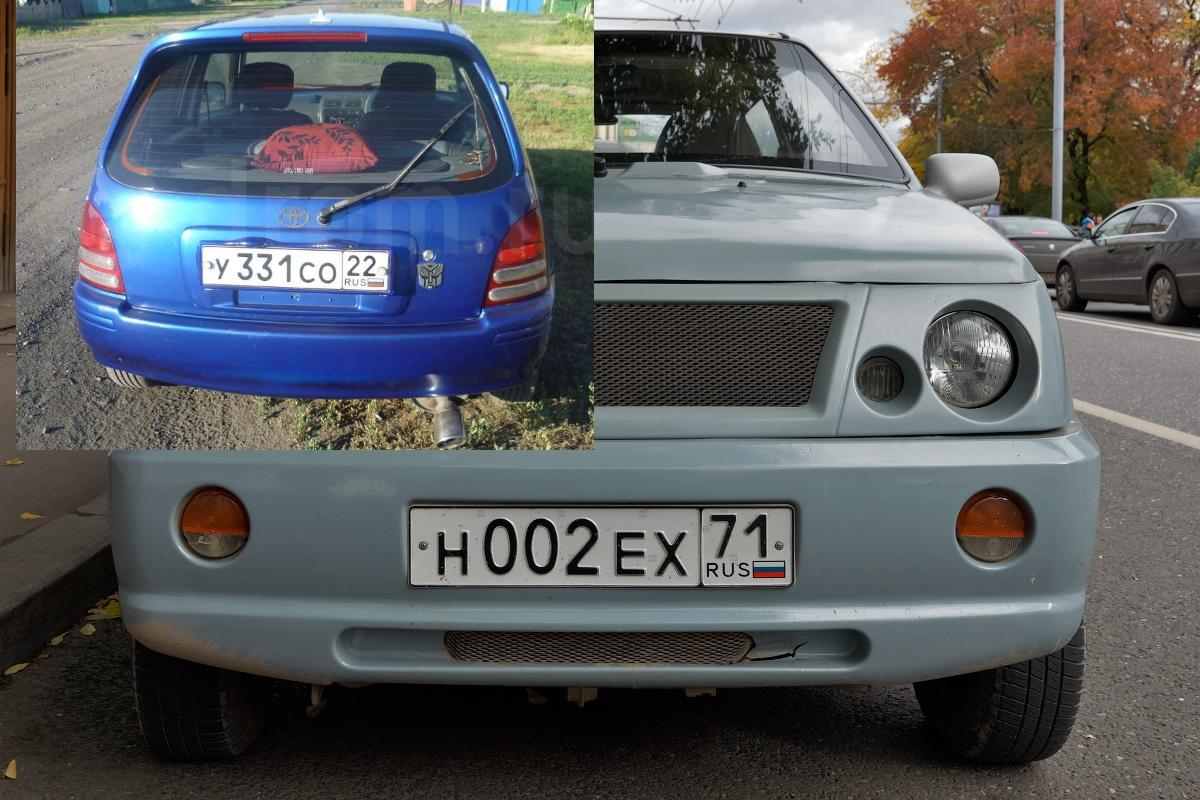license-plateSW: (411, 504, 801, 587), (202, 248, 394, 290)
